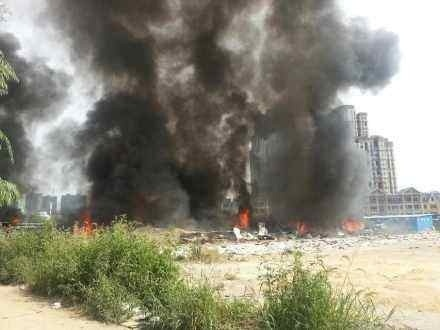fire: (73, 208, 100, 235), (337, 212, 366, 235), (289, 217, 313, 238), (233, 206, 253, 229)
